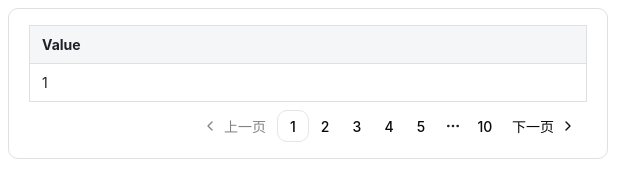
table pagination through CardRenderer › uses shadcn page links and ellipses for large page sets
Step 1. Click the button named "第 5 页" → {"x": 421, "y": 126}, box [405,110,437,142]
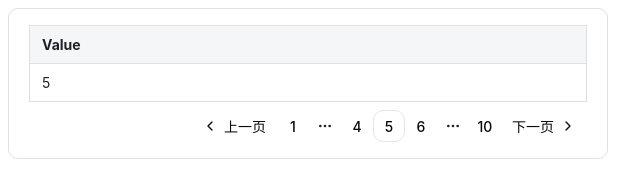
Expected: the cell reads "5", [42,74,50,91]
